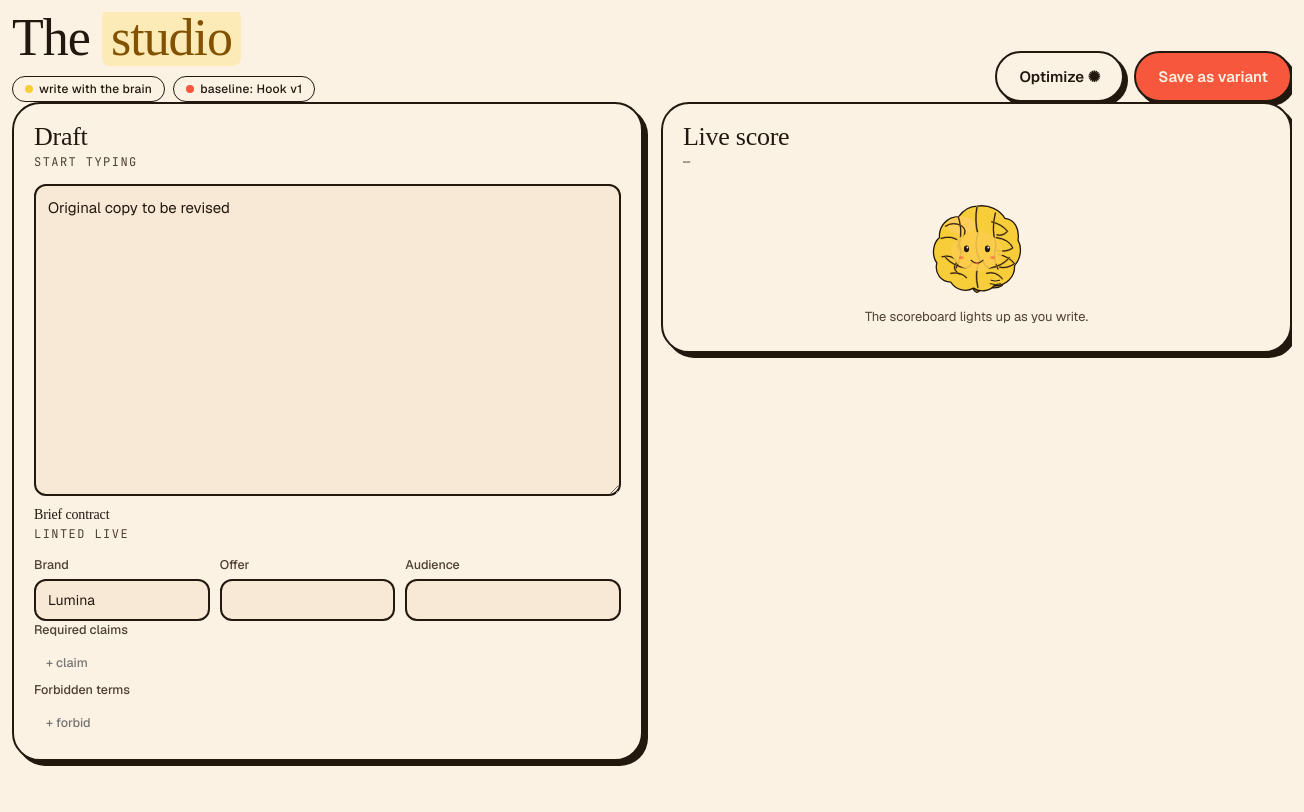
Scenario: StudioView › sends lineage on save when the handoff carried a source, and shows the lift receipt
Click the button "Save as variant" at [1213, 76], box [1134,51,1292,102]
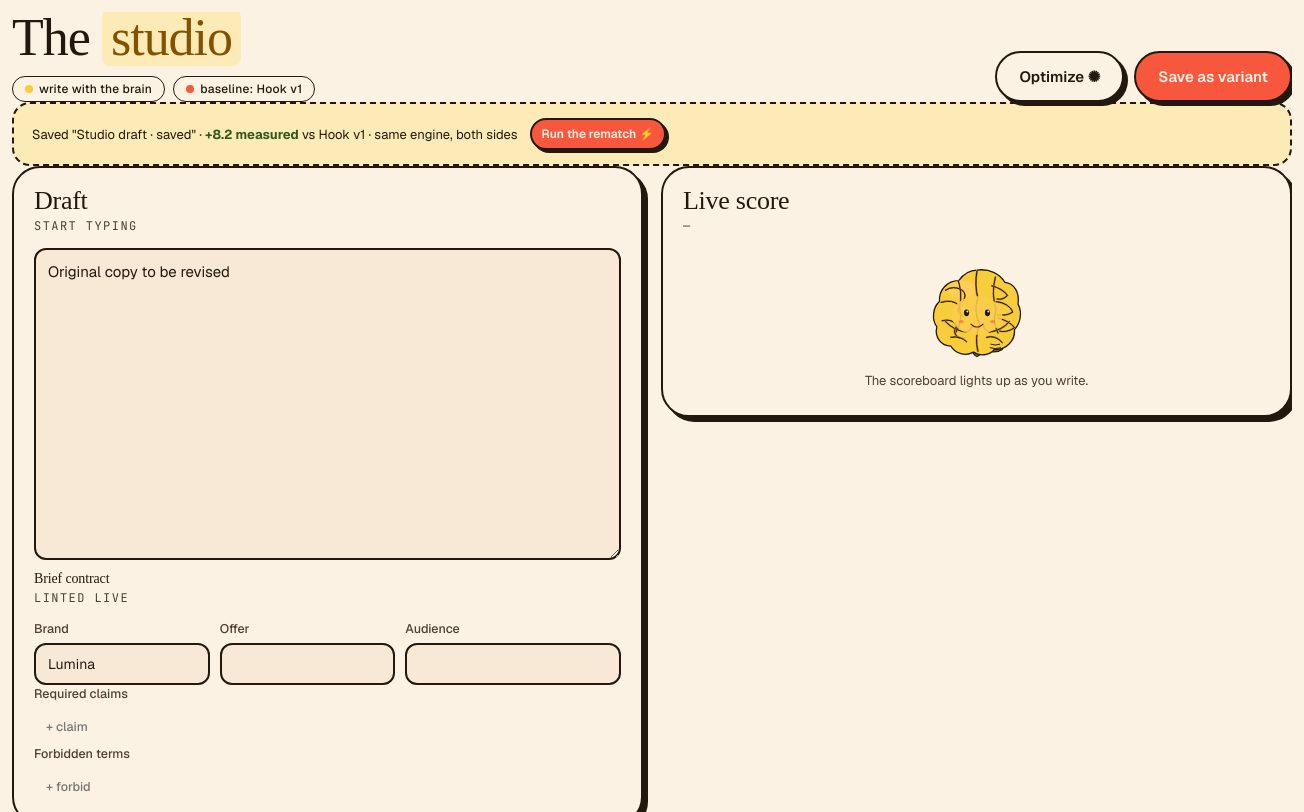
expect the message with test id "lift-receipt" is shown: met, box [12,102,1292,166]
expect the text "+8.2 measured" is shown: met, box [205,126,299,142]
expect the button "Run the rematch ⚡" is shown: met, box [530,118,666,150]
